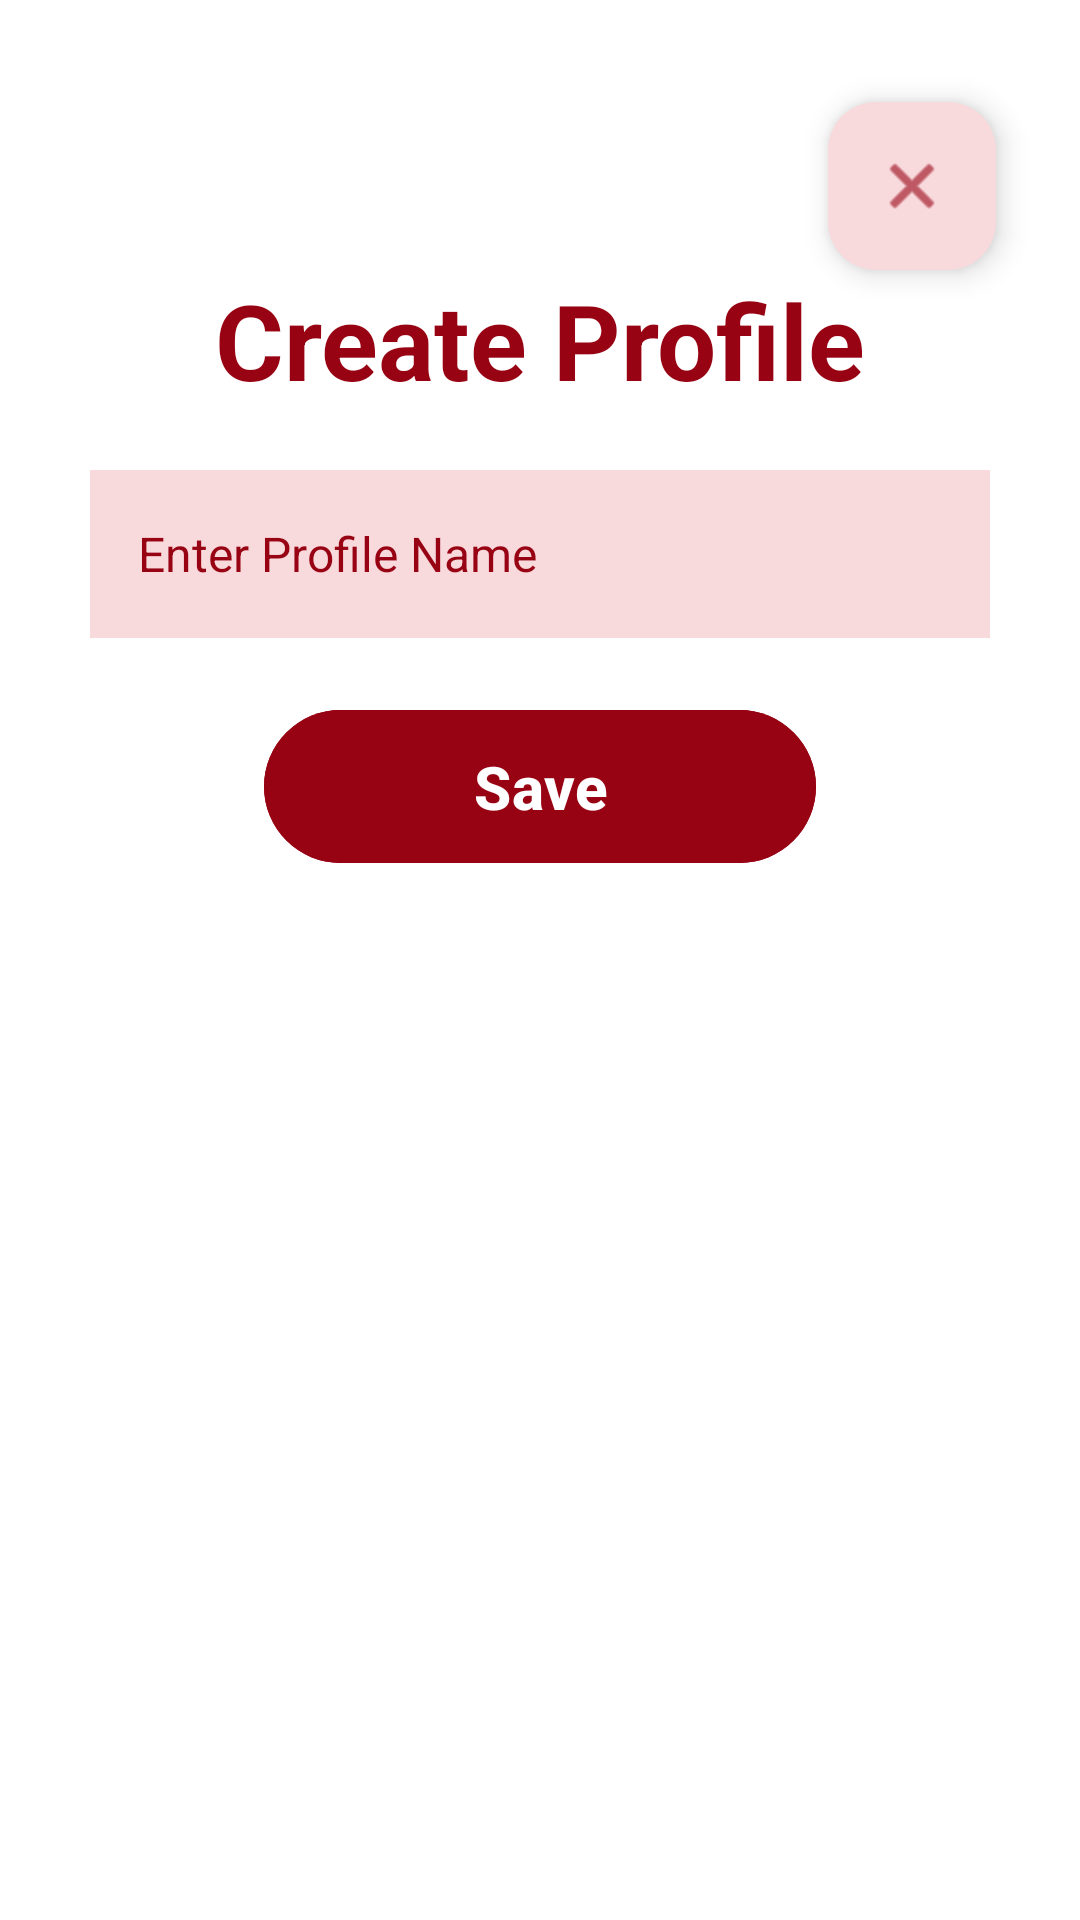

Icons on this 1080w x 1920h Android screen, each with the point to tap as [x,y]:
close clear cancel: [913,187]
